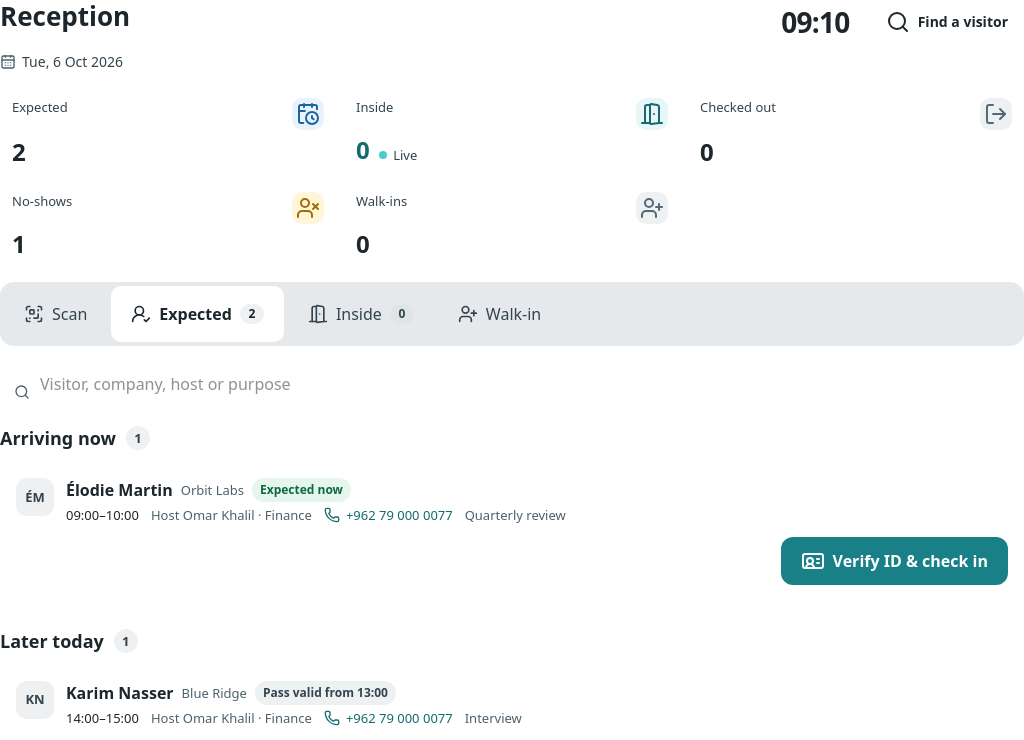
Test: Expected tab › checks a visitor in after an ID check (MANUAL) and refreshes the list
Check: the text "Élodie Martin" is shown, box [66,479,173,501]
Click the button "Verify ID & check in" at (894,561), box [781,537,1008,585]
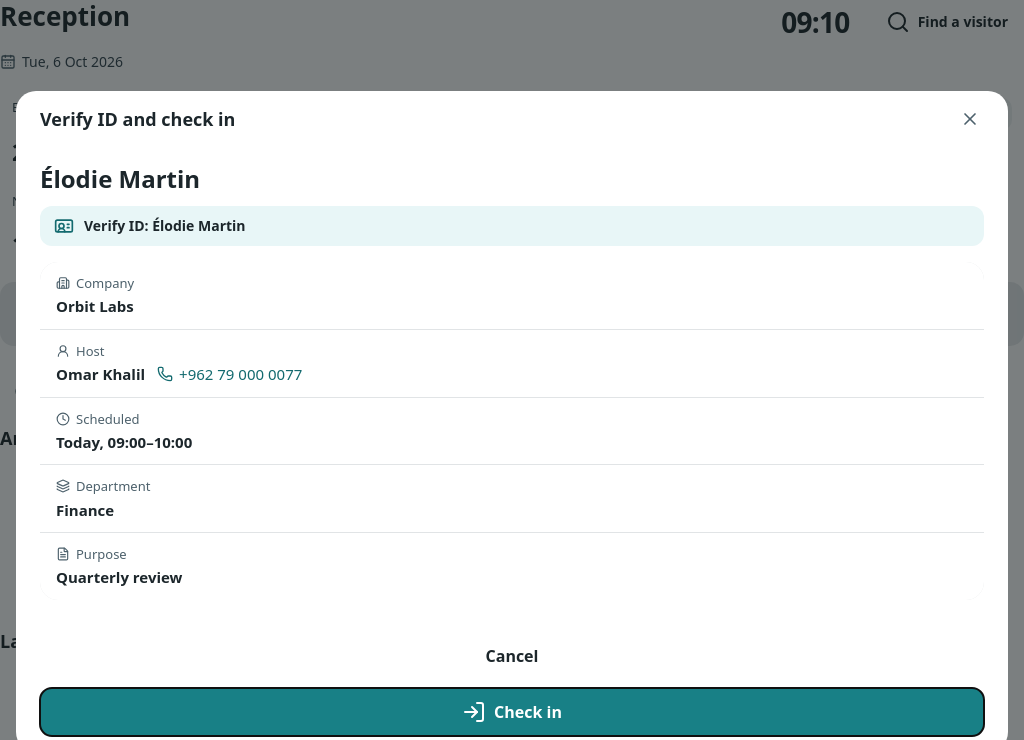
Check: the dialog "Verify ID and check in" shows "Verify ID: Élodie Martin", box [84,216,246,235]
Click the button "Check in" at (512,712), box [40,688,984,736]
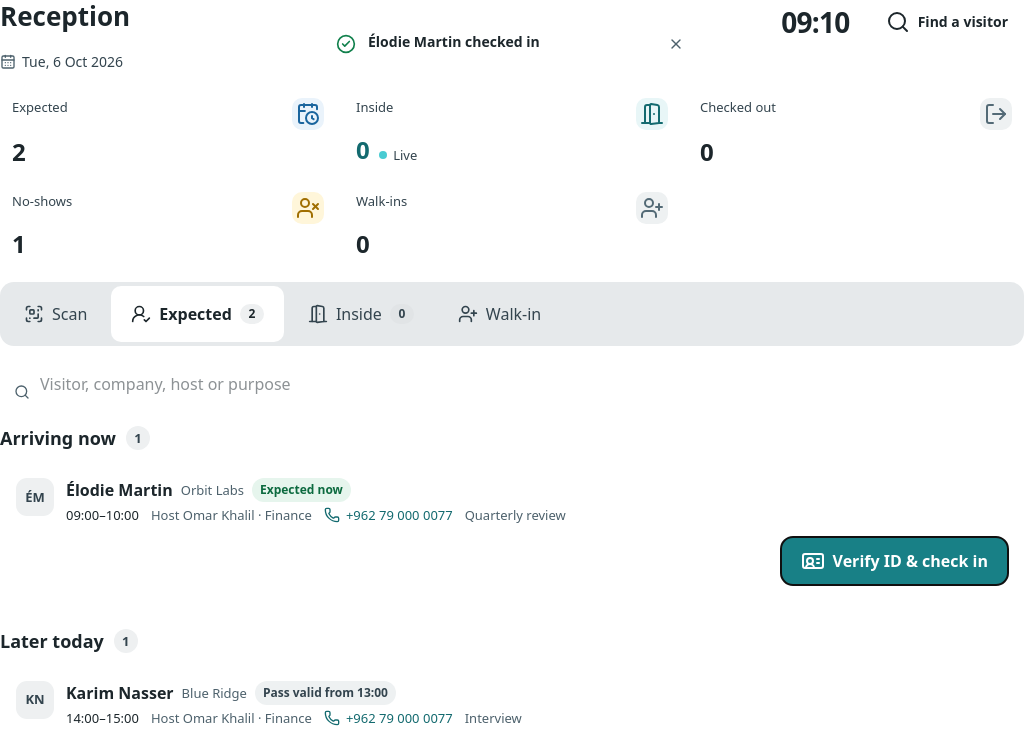
Check: the text "Élodie Martin checked in" is shown, box [368,32,540,51]
